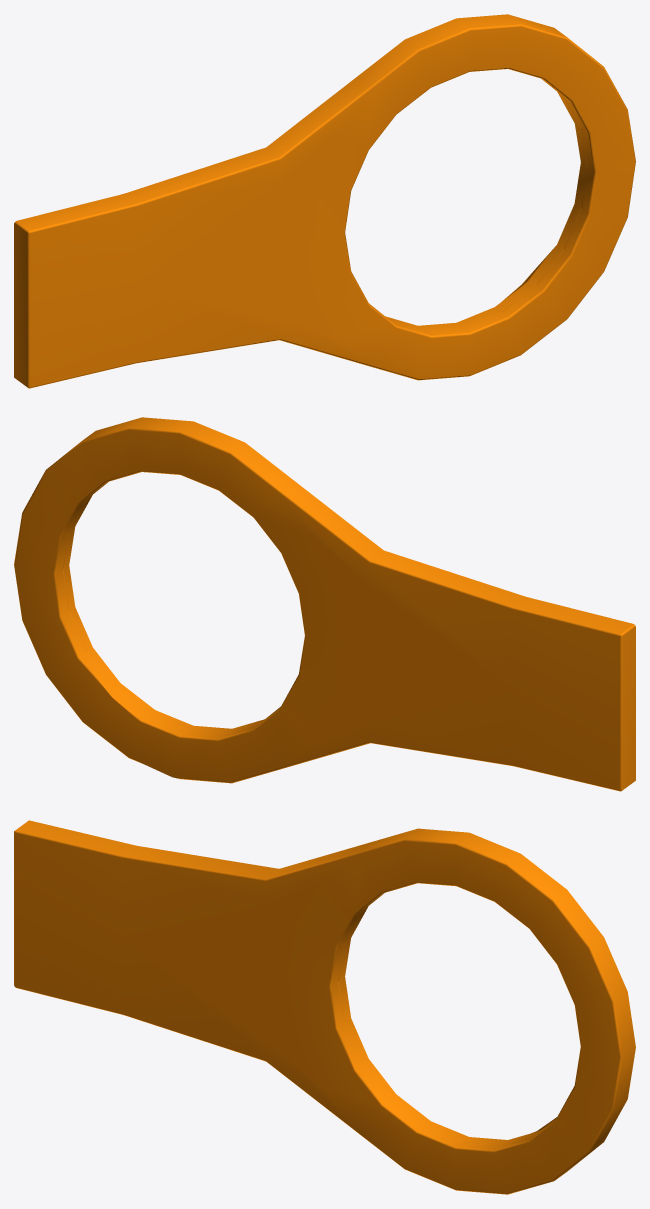
Rendered from sight.obj.
The picture shows the model from 3 angles, top to bottom: view 1: azimuth 30°, elevation 25°; view 2: azimuth 150°, elevation 25°; view 3: azimuth 330°, elevation 25°; orthographic projection.
Visible parts, largest first — view 1: sight; view 2: sight; view 3: sight.
Boxes of the visible parts, x1=… form: sight: x1=14, y1=14, x2=635, y2=388; sight: x1=14, y1=417, x2=635, y2=791; sight: x1=14, y1=820, x2=635, y2=1194.
Bounding box in the file's own units: 0.1325 × 0.0725 × 0.0058.
